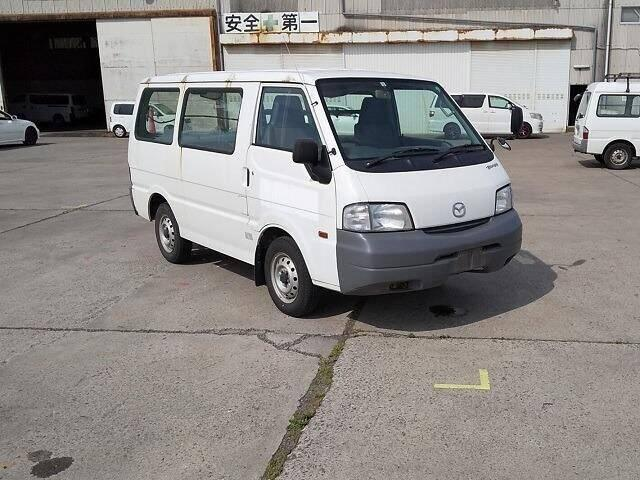Van: (133, 71, 526, 302)
